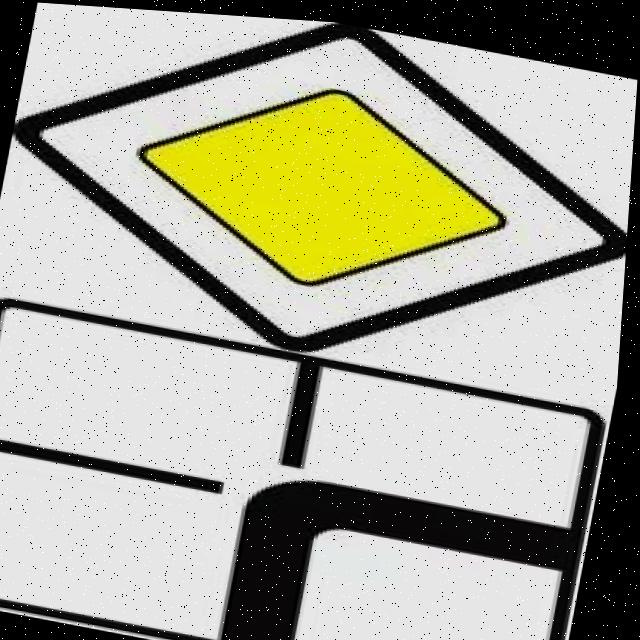signs: (0, 0, 640, 403)
